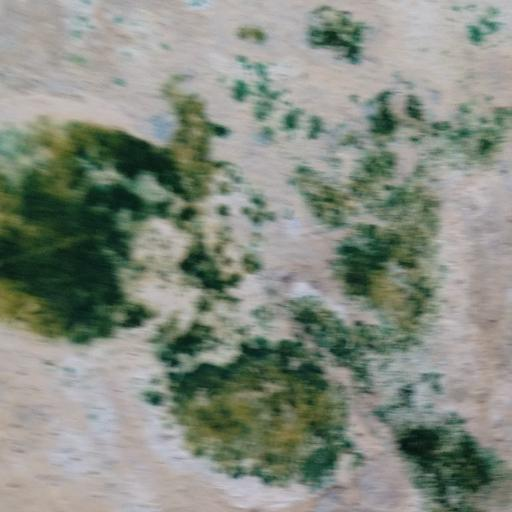algae: (4, 36, 502, 490)
